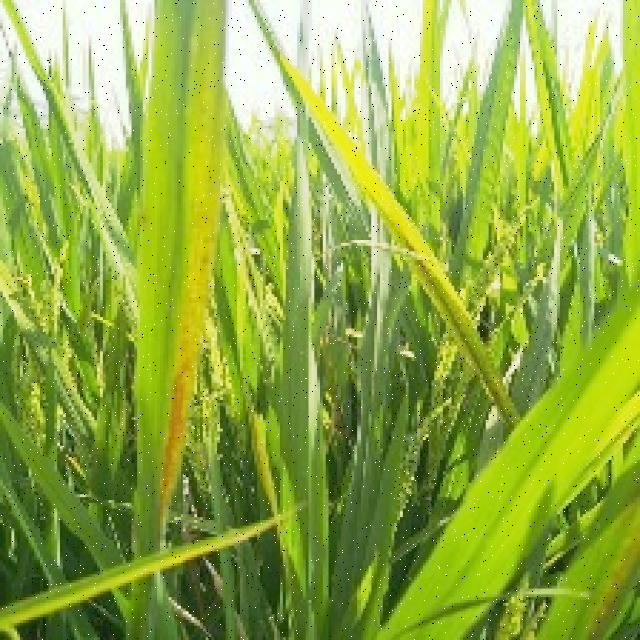health: (280, 427, 586, 640)
